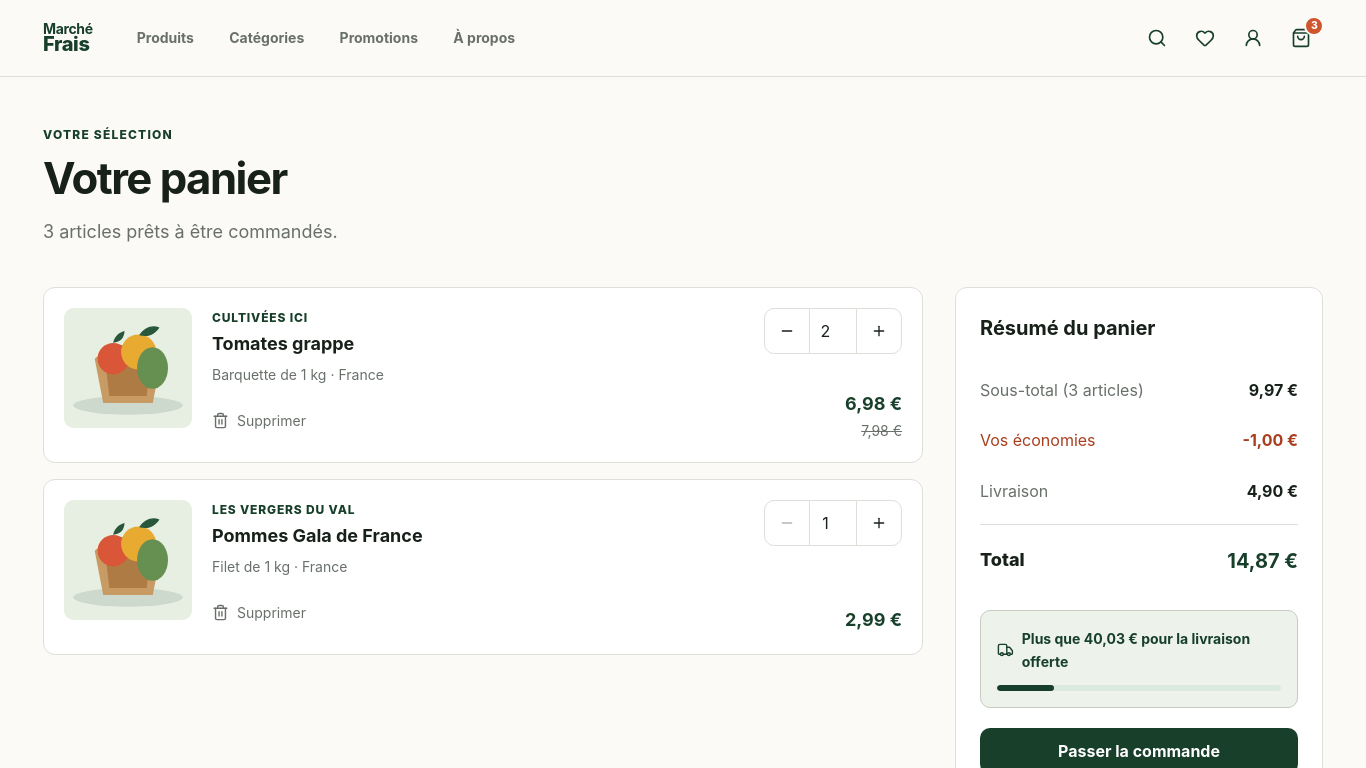
Scenario: CartPage › shows exact totals and updates quantities and the header count
Check: the heading "Pommes Gala de France" is shown, box left=212, top=524, right=423, bottom=547
Check: the text "9,97 €" is shown, box left=1249, top=377, right=1298, bottom=403
Click the button named "Augmenter la quantité de Pommes Gala de France". click: (879, 523)
box: left=857, top=501, right=901, bottom=545
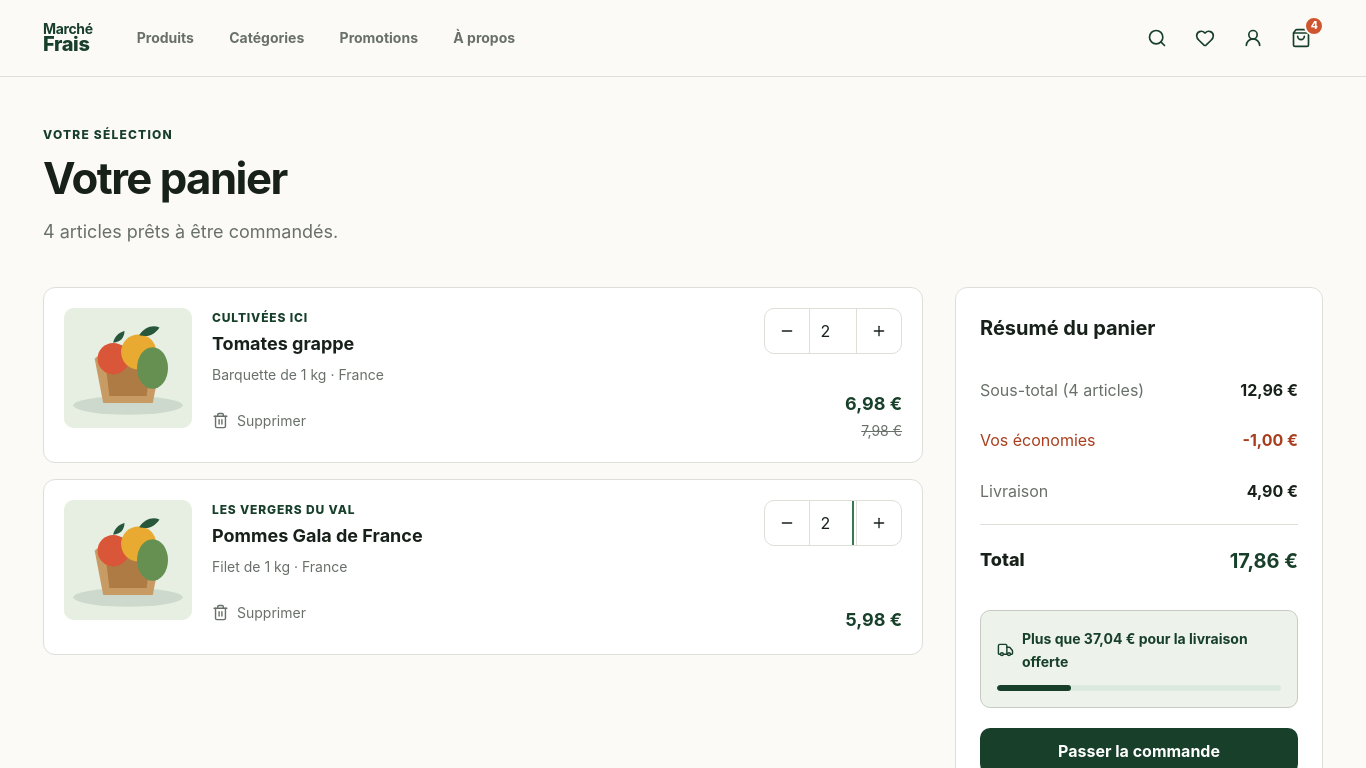
Check: the link named "Panier, 4 articles" is shown, box left=1291, top=16, right=1324, bottom=48
Check: the number field named "Quantité de Pommes Gala de France" holds "2", box left=809, top=501, right=857, bottom=545
